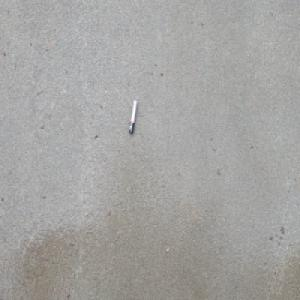Battery: (128, 99, 137, 134)
